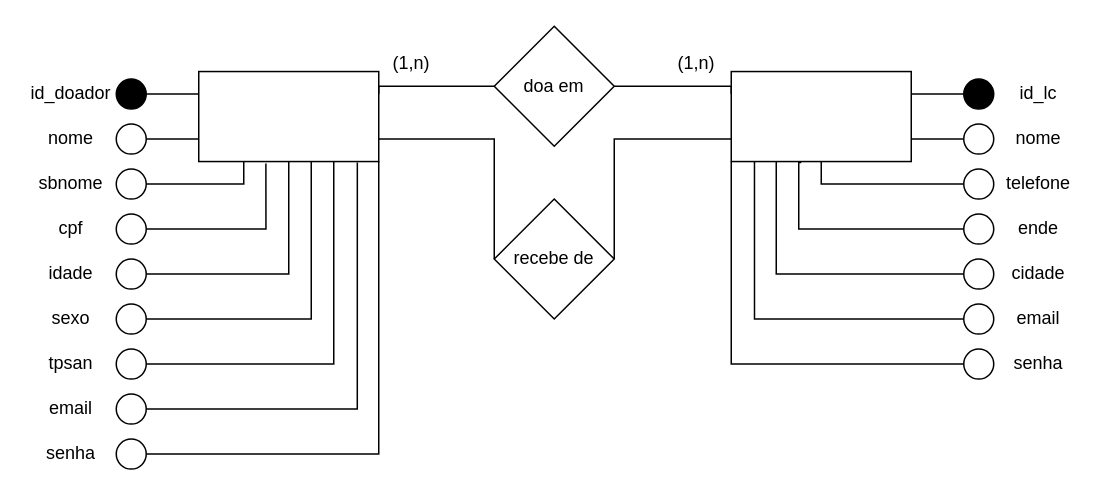
Some shapes in this 1109 by 500 pixel diagram are drawn without their labels. Here are the shapes that lost their labels. From the top down, the centre of each, then its label:
At (288,116): "doador".
At (820,116): "local de coleta".
